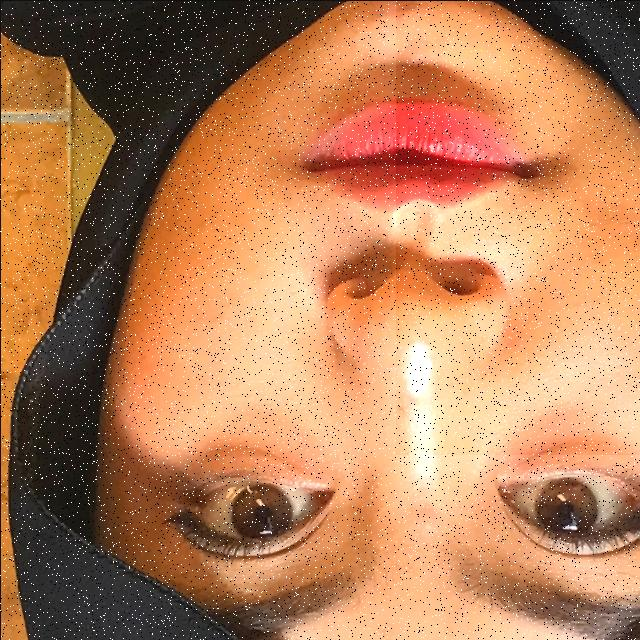ibu: (395, 0, 640, 454)
